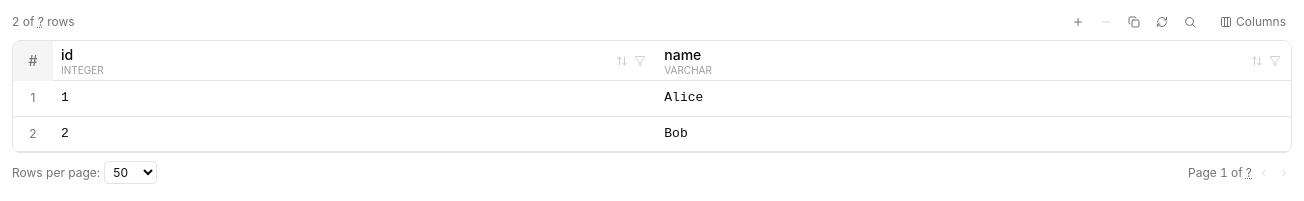
Scenario: DataTable › row selection › shift+click selects a range
This screenshot has width=1304, height=201.
Click the 1st cell titled "Click to select" at (33, 99), box [13, 81, 53, 116]
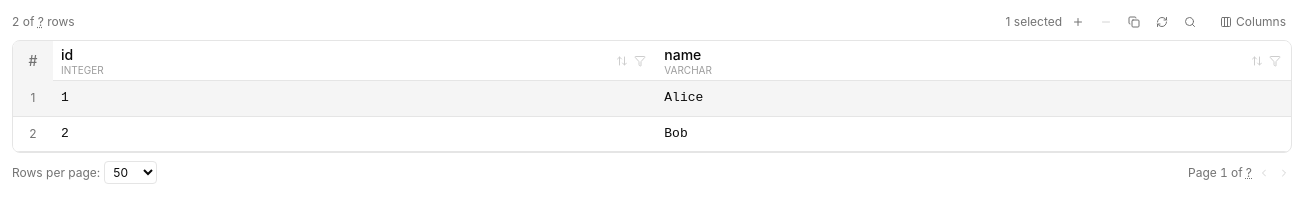
Click the 1st cell titled "Click to select" at (33, 134), box [13, 116, 53, 152]
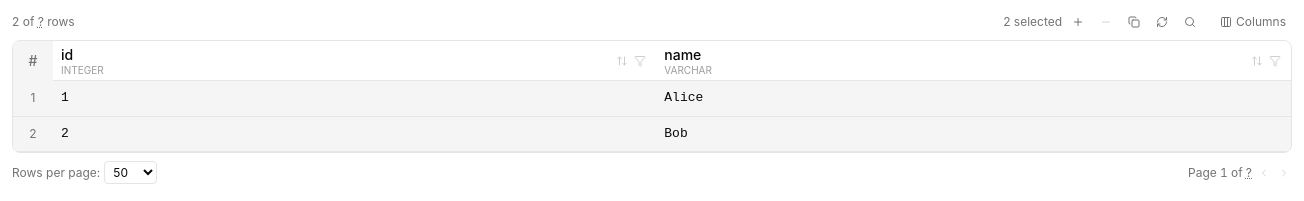
Result: the text "2 selected" is shown at [1003, 14, 1062, 30]
